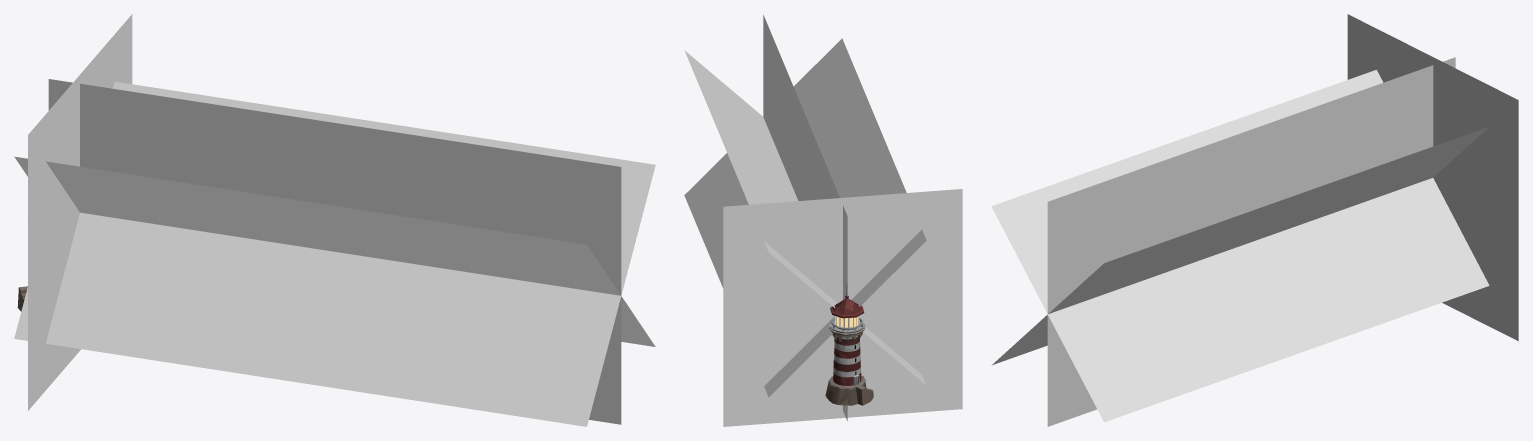
The model's file is LightHouse_tex.fbx.
3 renders of one model, left to right at view 1: azimuth 30°, elevation 25°; view 2: azimuth 150°, elevation 25°; view 3: azimuth 270°, elevation 25°, orthographic. The views are drawn at different scales.
Parts seen in each view (by area): view 1: BackFace.002, Beam1, Beam3, Beam2, FrontFacingLight, BackFace.001, BackFace; view 2: FrontFacingLight, BackFace.001, Beam2, Beam3, BackFace, Lighthouse, BackFace.002; view 3: Beam2, BackFace.001, BackFace, FrontFacingLight, BackFace.002, Beam3, Beam1.
Part boxes in pixels (bbox=[...]): BackFace.002: bbox=[14, 82, 610, 426]; Beam1: bbox=[48, 79, 621, 419]; Beam3: bbox=[72, 81, 655, 426]; Beam2: bbox=[14, 156, 655, 346]; FrontFacingLight: bbox=[28, 14, 132, 410]; BackFace.001: bbox=[74, 200, 654, 346]; BackFace: bbox=[548, 162, 621, 424]; FrontFacingLight: bbox=[723, 189, 962, 426]; BackFace.001: bbox=[738, 38, 926, 354]; Beam2: bbox=[684, 39, 867, 397]; Beam3: bbox=[684, 50, 925, 384]; BackFace: bbox=[763, 15, 847, 413]; Lighthouse: bbox=[825, 283, 873, 405]; BackFace.002: bbox=[746, 120, 925, 384]; Beam2: bbox=[994, 70, 1489, 422]; BackFace.001: bbox=[991, 70, 1486, 421]; BackFace: bbox=[1047, 57, 1455, 425]; FrontFacingLight: bbox=[1347, 14, 1518, 341]; BackFace.002: bbox=[1040, 127, 1488, 321]; Beam3: bbox=[991, 147, 1465, 365]; Beam1: bbox=[1047, 139, 1432, 426].
Size of the model in its own units: 278 by 150 by 297.
Materials: 3 (1 with a texture image).
